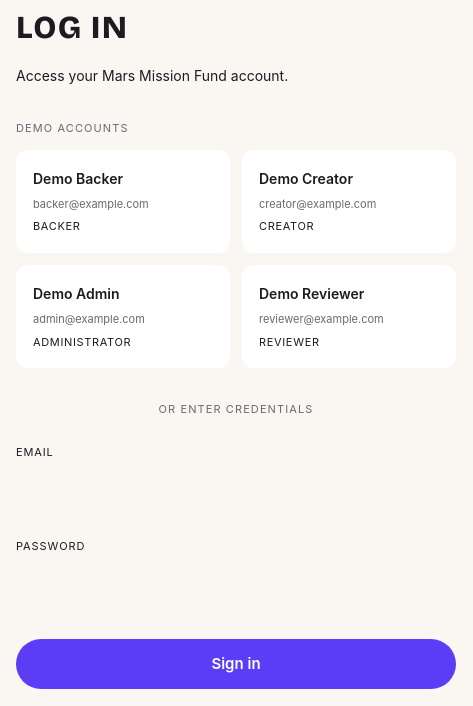
Test: LoginPage › pre-fills credentials when demo user card is clicked
Note: Click the Demo Backer demo card
Click the button "Demo Backer backer@example.com Backer" at (123, 202), box [16, 150, 230, 253]
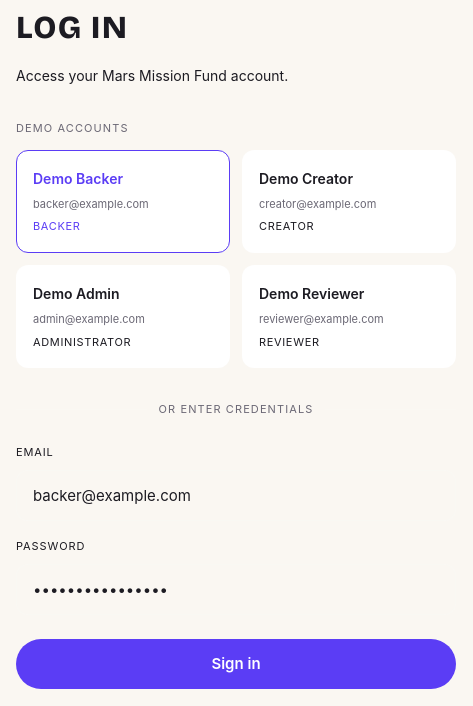
Check: the field labelled "Email" holds "backer@example.com", box [16, 470, 456, 521]
Check: the password field labelled "Password" holds "backer-demo-pass", box [16, 564, 456, 615]
